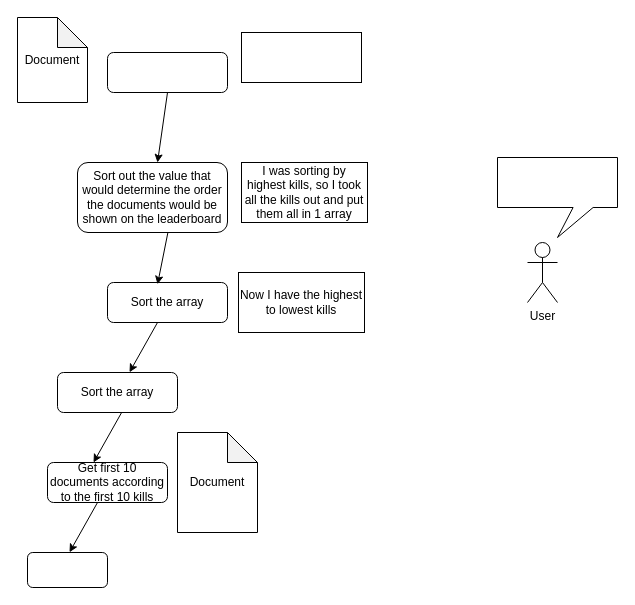
This 635x605 diagram has some shape labels left out. Here are the shapes that lost their labels. From the top down, the centre of each, then its label:
At (167,72): "Get Documents from server".
At (301,57): "Documents were objects inside main array".
At (557,197): "This is really slow and duped values don't stack properly".
At (67,570): "Stop".
